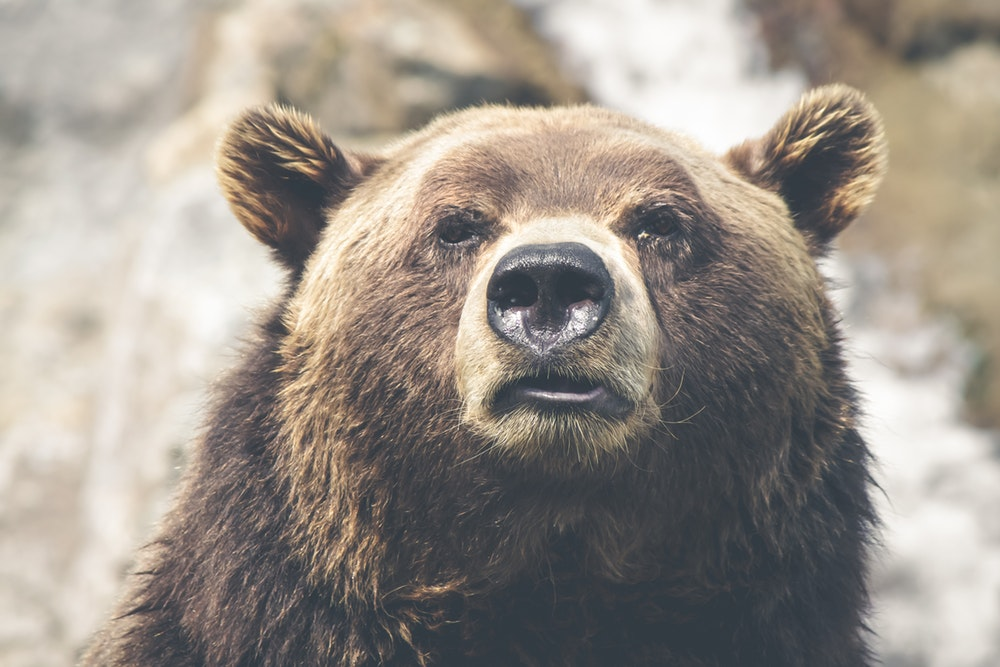bear: (213, 74, 891, 476)
